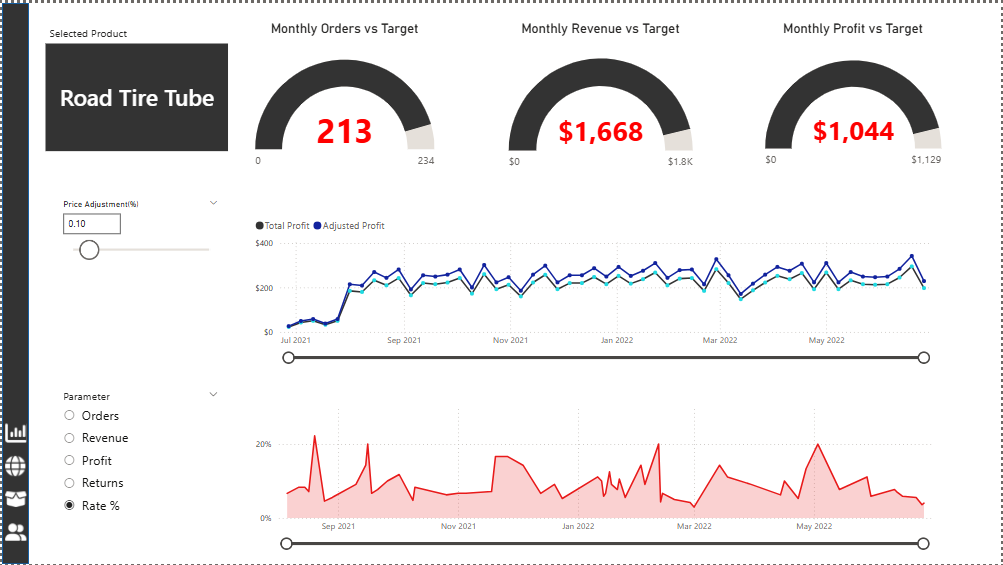

The page's visual inventory and layout, read from the dashboard file:
{"tool":"powerbi","page":{"name":"Product Detail","canvas":[1280,720],"ordinal":2},"visuals":[{"type":"shape","title":"Left Nav Background","box":[0,0,34.5,720.7],"z":0},{"type":"gauge","title":"Monthly Orders vs Target","fields":{"MaxValue":["Measure Table.Order Target"],"Y":["Measure Table.Total Orders"]},"box":[320,24,240,222],"z":1000},{"type":"gauge","title":"Monthly Revenue vs Target","fields":{"MaxValue":["Measure Table.Rvenue Target"],"Y":["Measure Table.Total Revenue"]},"box":[644,24,246,222],"z":2000},{"type":"gauge","title":"Monthly Profit vs Target","fields":{"MaxValue":["Measure Table.Profit Target"],"Y":["Measure Table.Total Profit"]},"box":[974,24,236,222],"z":3000},{"type":"lineChart","title":"Weekly Profit","fields":{"Category":["Calendar Lookup.Date Hierarchy.Start of Year","Calendar Lookup.Date Hierarchy.Start of Month","Calendar Lookup.Date Hierarchy.Start of Week","Calendar Lookup.Date Hierarchy.Date"],"Y":["Measure Table.Total Profit","Measure Table.Adjusted Profit"]},"box":[319.1,266,891.5,200],"z":4000},{"type":"areaChart","title":"Weekly Returns","fields":{"Category":["Calendar Lookup.Date Hierarchy.Start of Year","Calendar Lookup.Date Hierarchy.Start of Month","Calendar Lookup.Date Hierarchy.Start of Week","Calendar Lookup.Date Hierarchy.Date"],"Y":["Measure Table.Return Rate"]},"box":[319.1,504.3,891.5,200],"z":5000},{"type":"card","fields":{"Values":["Min(Product Lookup.ProductName)"]},"box":[56,52,234,138],"z":6000},{"type":"textbox","box":[56,24,140,28],"z":7000},{"type":"actionButton","box":[0,524.4,35.6,53.3],"z":8000},{"type":"actionButton","box":[0,608.9,35.6,53.3],"z":9000},{"type":"actionButton","box":[0,651.1,35.6,53.3],"z":10000},{"type":"actionButton","box":[0,566.7,34,52],"z":11000},{"type":"slicer","fields":{"Values":["Price Adjustment(%).Price Adjustment(%)"]},"box":[66,246.8,223.4,136.2],"z":12000},{"type":"slicer","fields":{"Values":["Parameter 3.Parameter"]},"box":[66,489.4,223.4,189.4],"z":13000}]}

Visuals, with their boxes on the page's 1280x720 design canvas (x1, y1, x2, y2). These are canvas units, not pixel positions in the 1003x565 screenshot, which may show the page scaled, cropped or inside an application window:
"Left Nav Background" shape: l=0, t=0, r=34, b=721
"Monthly Orders vs Target" gauge: l=320, t=24, r=560, b=246
"Monthly Revenue vs Target" gauge: l=644, t=24, r=890, b=246
"Monthly Profit vs Target" gauge: l=974, t=24, r=1210, b=246
"Weekly Profit" lineChart: l=319, t=266, r=1211, b=466
"Weekly Returns" areaChart: l=319, t=504, r=1211, b=704
card - Min(Product Lookup.ProductName): l=56, t=52, r=290, b=190
textbox: l=56, t=24, r=196, b=52
actionButton: l=0, t=524, r=36, b=578
actionButton: l=0, t=609, r=36, b=662
actionButton: l=0, t=651, r=36, b=704
actionButton: l=0, t=567, r=34, b=619
slicer - Price Adjustment(%).Price Adjustment(%): l=66, t=247, r=289, b=383
slicer - Parameter 3.Parameter: l=66, t=489, r=289, b=679
